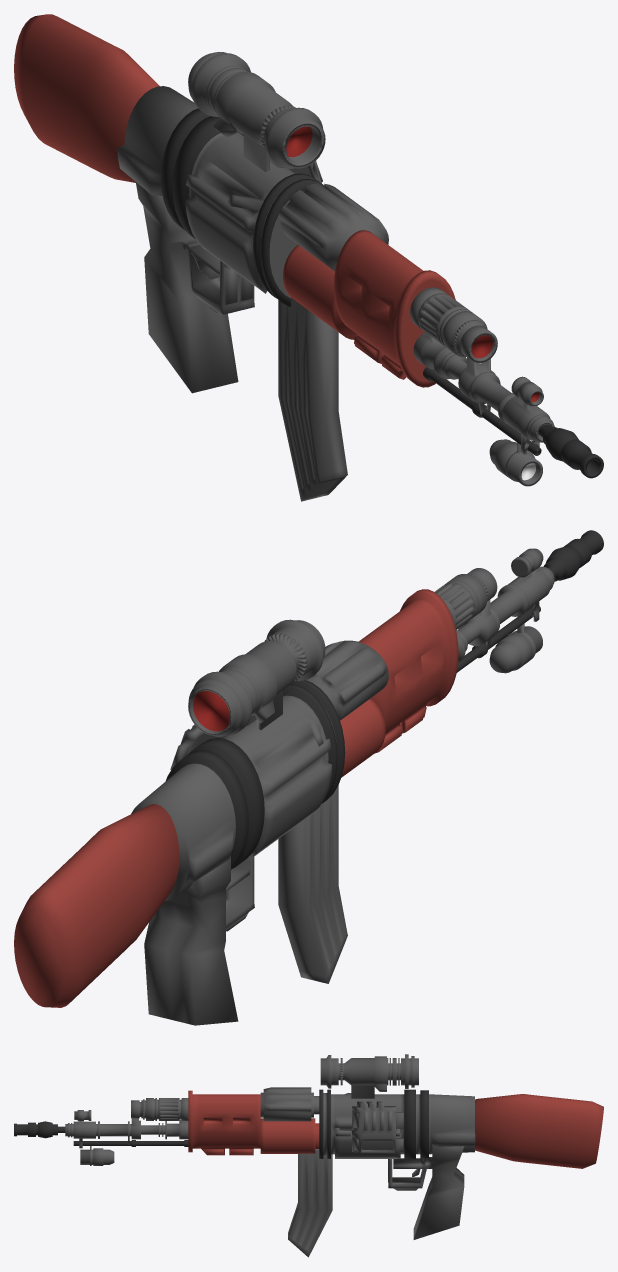
Rendered from AK-47_Aksesoris_Lengkap.fbx.
The picture shows the model from 3 angles, top to bottom: view 1: azimuth 30°, elevation 25°; view 2: azimuth 150°, elevation 25°; view 3: azimuth 270°, elevation 25°; orthographic projection. The views are drawn at different scales.
Parts seen in each view (by area): view 1: Objek AK47 9, Objek AK47 11, Objek AK47 10, Objek AK47 12, Objek AK47 6, Cylinder, Objek AK47 7, Objek AK47 2, Objek AK47 1, Objek AK47 5, Cylinder.001, Cylinder.002 (+2 smaller); view 2: Objek AK47 9, Objek AK47 11, Objek AK47 10, Objek AK47 12, Cylinder, Objek AK47 6, Objek AK47 7, Objek AK47 2, Objek AK47 5, Objek AK47 1, Cylinder.002, Cylinder.001 (+2 smaller); view 3: Objek AK47 9, Objek AK47 11, Objek AK47 6, Objek AK47 10, Objek AK47 12, Cylinder, Objek AK47 5, Objek AK47 7, Objek AK47 2, Objek AK47 1, Cylinder.001, Objek AK47 3 (+1 smaller).
Boxes of the visible parts, x1,y1,x2,y2 form: Objek AK47 9: [117, 86, 324, 306]; Objek AK47 11: [14, 14, 159, 182]; Objek AK47 10: [135, 182, 254, 393]; Objek AK47 12: [278, 297, 347, 501]; Objek AK47 6: [334, 230, 455, 387]; Cylinder: [188, 52, 325, 172]; Objek AK47 7: [278, 183, 388, 271]; Objek AK47 2: [413, 332, 554, 454]; Objek AK47 1: [410, 287, 497, 363]; Objek AK47 5: [282, 244, 356, 339]; Cylinder.001: [538, 424, 603, 478]; Cylinder.002: [489, 439, 542, 486]; Objek AK47 9: [131, 680, 345, 901]; Objek AK47 11: [14, 804, 179, 1007]; Objek AK47 10: [144, 855, 254, 1025]; Objek AK47 12: [278, 785, 347, 983]; Cylinder: [188, 619, 325, 736]; Objek AK47 6: [358, 589, 458, 753]; Objek AK47 7: [306, 640, 388, 720]; Objek AK47 2: [456, 566, 554, 662]; Objek AK47 5: [340, 698, 385, 777]; Objek AK47 1: [435, 568, 497, 629]; Cylinder.002: [489, 623, 542, 673]; Cylinder.001: [543, 530, 603, 581]; Objek AK47 9: [319, 1089, 475, 1158]; Objek AK47 11: [475, 1094, 603, 1168]; Objek AK47 6: [188, 1090, 260, 1155]; Objek AK47 10: [388, 1144, 464, 1239]; Objek AK47 12: [288, 1149, 332, 1257]; Cylinder: [320, 1054, 418, 1098]; Objek AK47 5: [260, 1118, 319, 1153]; Objek AK47 7: [260, 1087, 319, 1121]; Objek AK47 2: [65, 1118, 188, 1148]; Objek AK47 1: [131, 1098, 188, 1120]; Cylinder.001: [14, 1121, 65, 1138]; Objek AK47 3: [73, 1140, 188, 1146].
Bounding box in the file's own units: 76.41 × 256 × 692.
